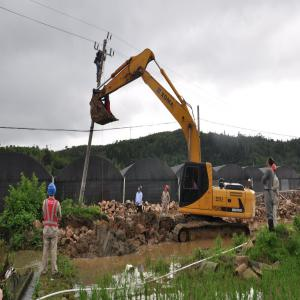blue: (48, 183, 57, 199), (138, 186, 143, 193)
none: (267, 158, 274, 169)
red: (272, 164, 277, 175), (166, 186, 170, 193)
white: (248, 179, 252, 185)
